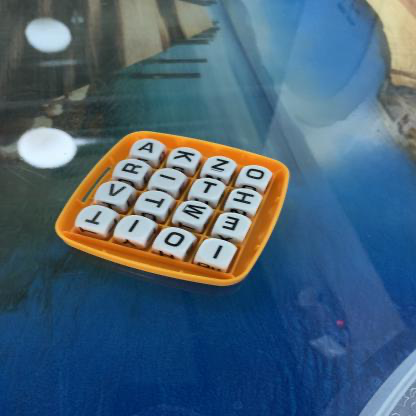a: (134, 140, 165, 160)
e: (217, 214, 250, 237)
h: (230, 189, 262, 211)
i: (200, 240, 237, 264), (120, 216, 152, 240), (155, 170, 184, 189)
k: (170, 149, 201, 168)
o: (158, 229, 192, 253), (242, 166, 272, 185)
r: (116, 160, 148, 180)
t: (78, 206, 113, 229), (138, 192, 172, 215), (193, 179, 225, 199)
v: (100, 182, 133, 204)
w: (180, 201, 212, 224)
z: (207, 157, 236, 176)
